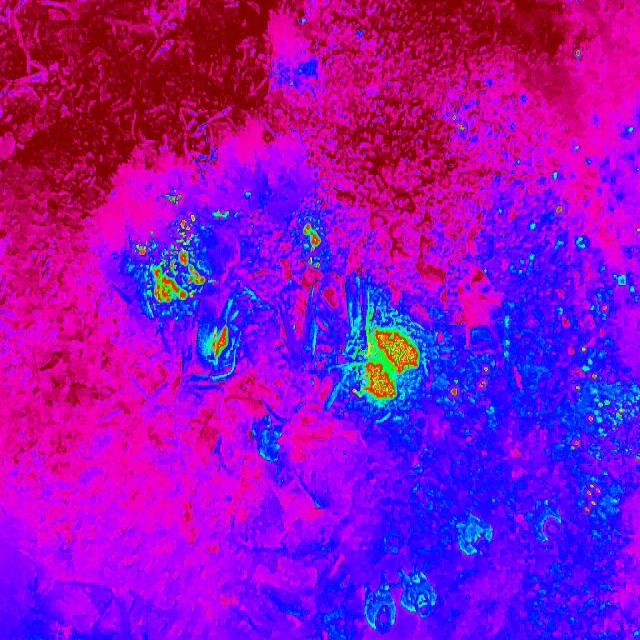fire: (527, 196, 640, 534), (346, 308, 423, 414), (134, 213, 212, 315), (446, 356, 494, 402), (204, 322, 234, 366), (300, 221, 326, 267), (160, 186, 188, 206), (451, 114, 468, 138), (572, 48, 586, 62)
